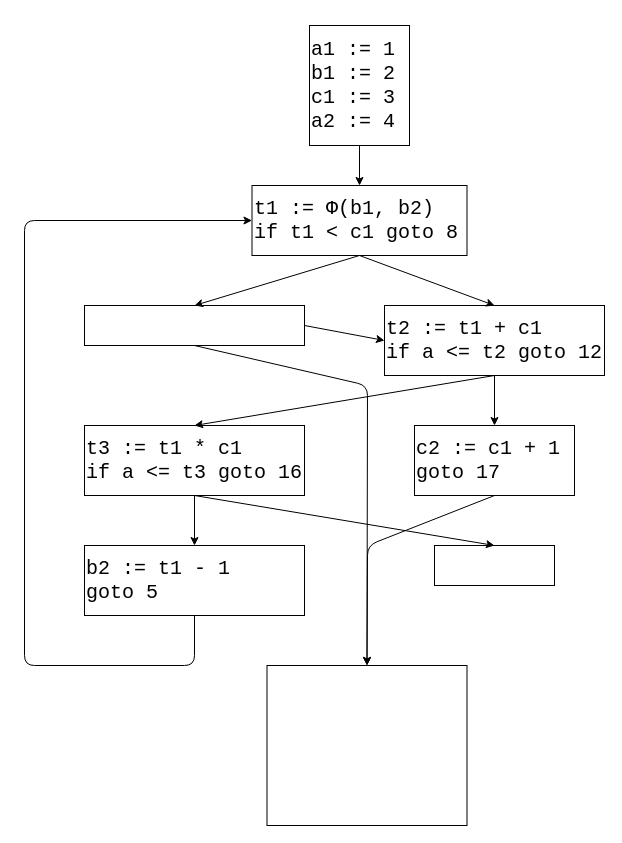
Image size: 622x843. Some labels were removed from this diagram. Each missing label, with the centre of its shape:
"if a2 > 10 goto 17" goes at point (194, 325).
"return a2" goes at point (494, 565).
"t4 := Ф(b1, b2) t5 := Ф(c1, c2) t6 := t1 * t2 a3 := t6 return a3" goes at point (366, 745).
